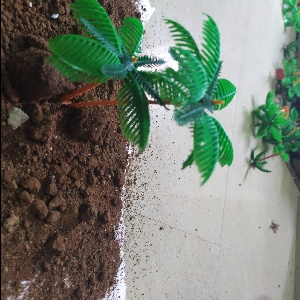plant: (44, 1, 238, 191)
